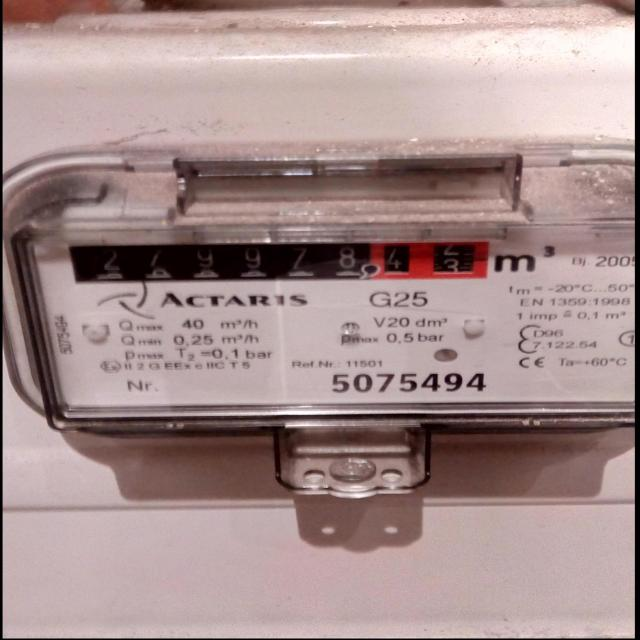gaz_meter: (8, 162, 640, 420)
indication: (72, 241, 485, 287)
